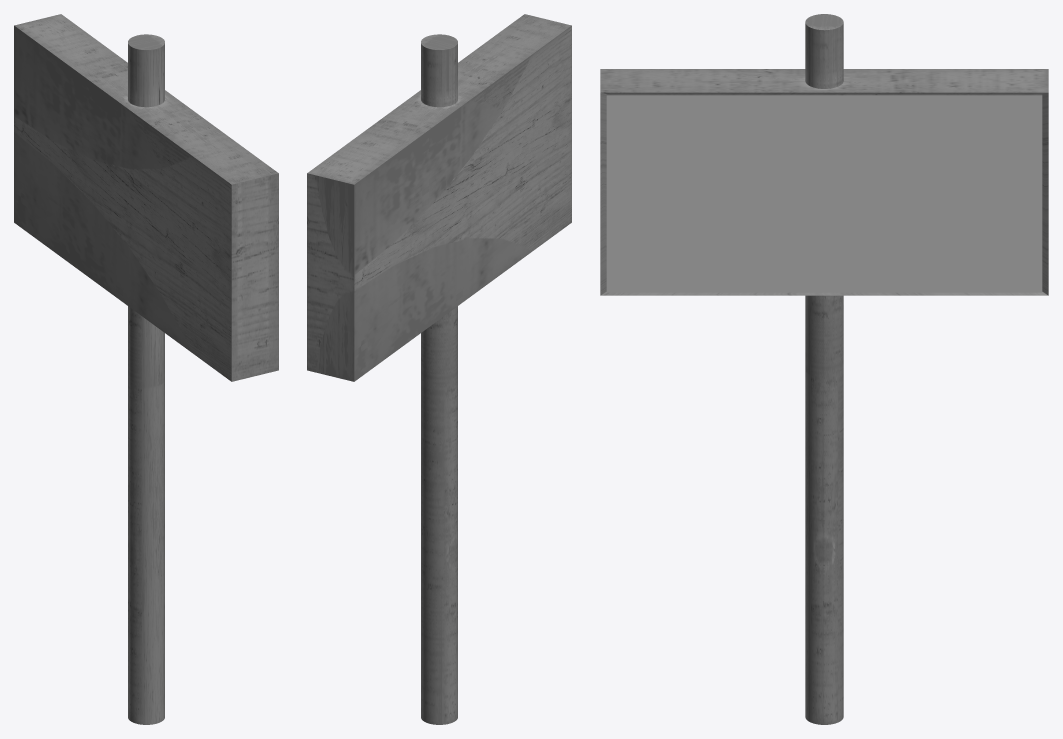
Rendered from Sign.fbx.
3 renders of one model, left to right at view 1: azimuth 30°, elevation 25°; view 2: azimuth 150°, elevation 25°; view 3: azimuth 270°, elevation 25°, orthographic. The views are drawn at different scales.
Parts seen in each view (by area): view 1: Cube; view 2: Cube; view 3: Cube.
Part boxes in pixels (x1,y1,x2,y2): Cube: [14, 14, 278, 724]; Cube: [307, 14, 571, 724]; Cube: [600, 14, 1048, 724].
Bounding box in the file's own units: 50 × 684 × 400.
